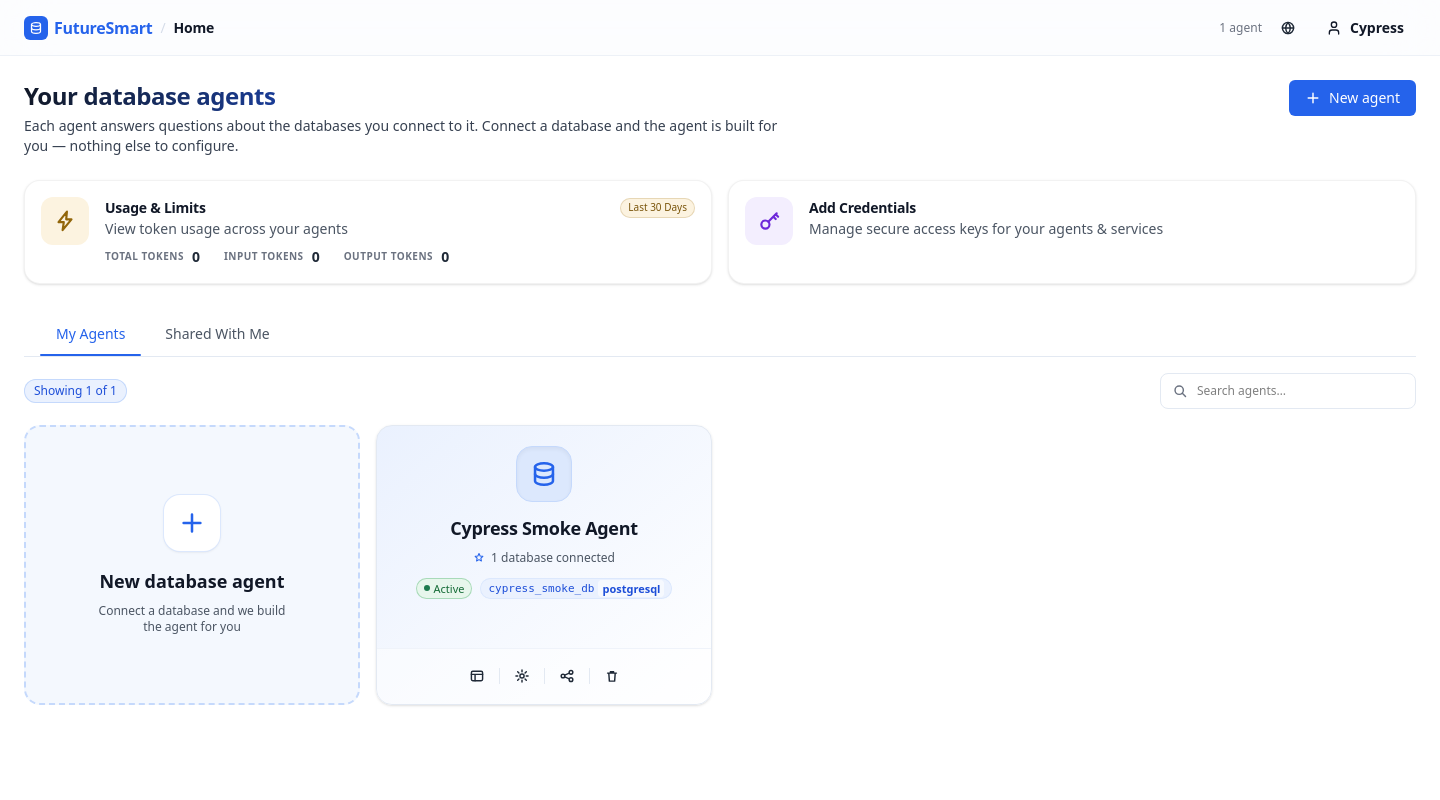
Database Agent · app boots › sends the Home credentials card to the Credentials screen
Click the link "Add Credentials".
click(1072, 232)  # box [728, 180, 1416, 284]
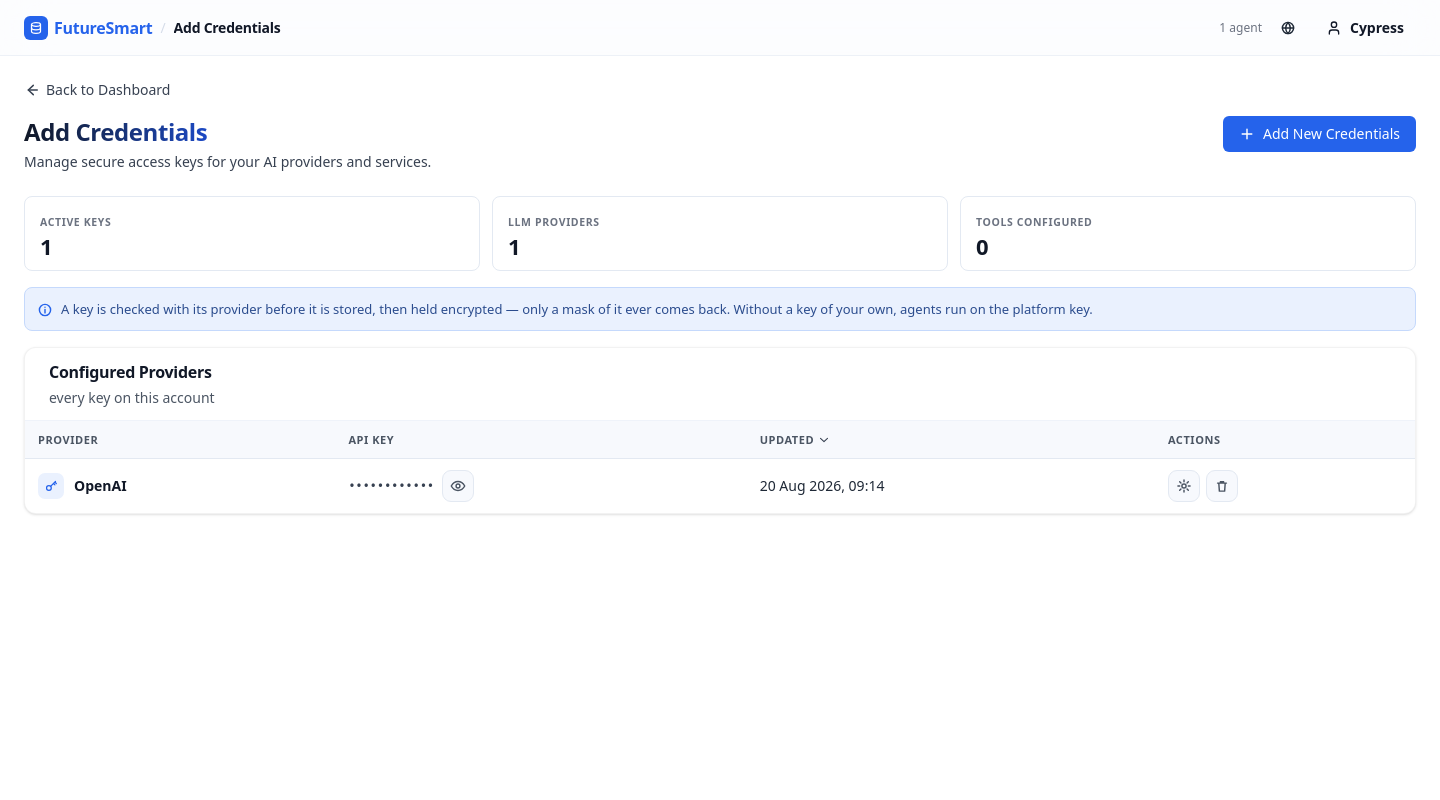
Check: the heading "Configured Providers" is shown, box [49, 360, 212, 384]
Click the button "Add New Credentials".
click(1320, 134)  # box [1223, 116, 1416, 152]
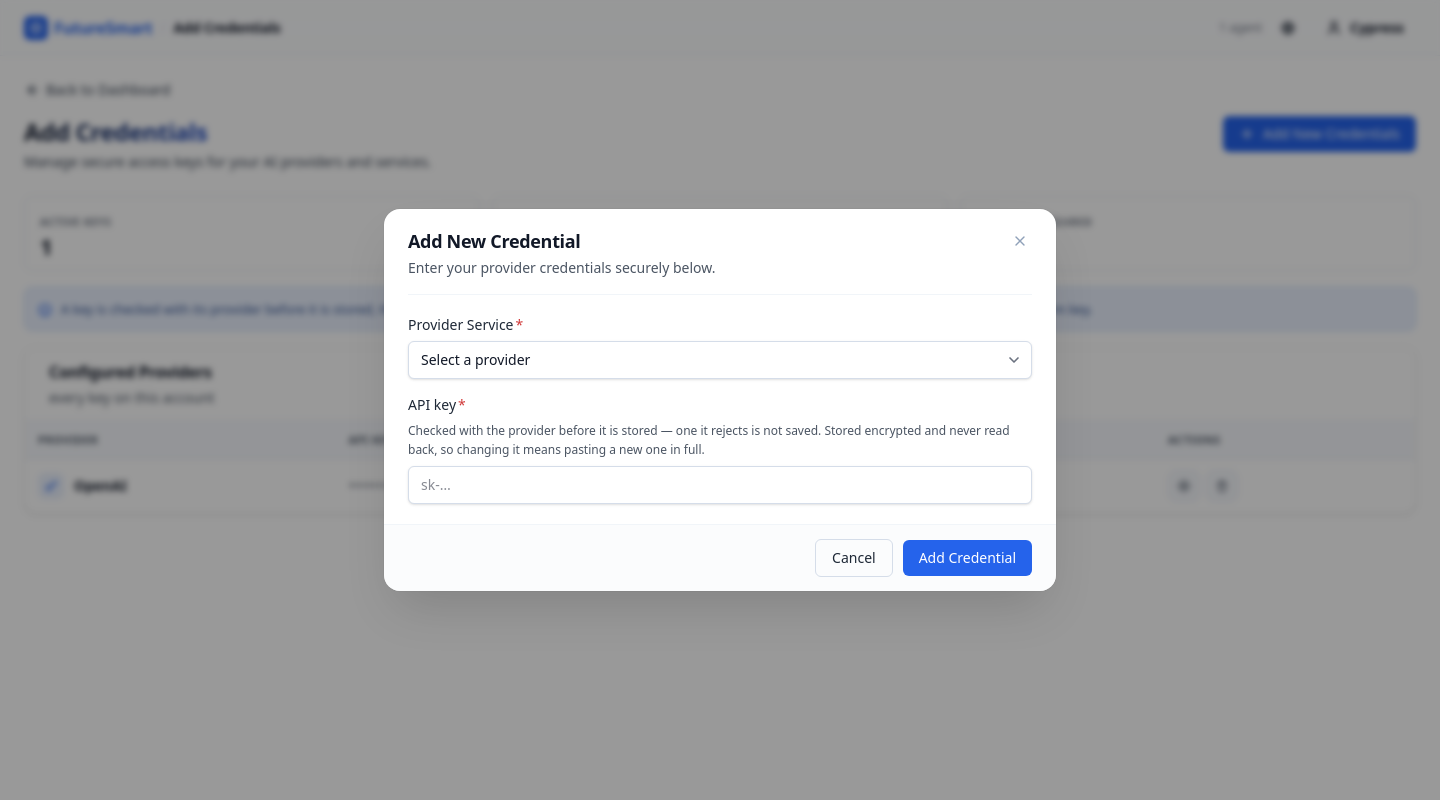
Check: the heading "Add New Credential" is shown, box [408, 229, 580, 253]
Check: the dropdown with id "credential-provider" is shown, box [408, 341, 1032, 379]
Check: the password field with id "credential-api-key" is shown, box [408, 466, 1032, 504]
